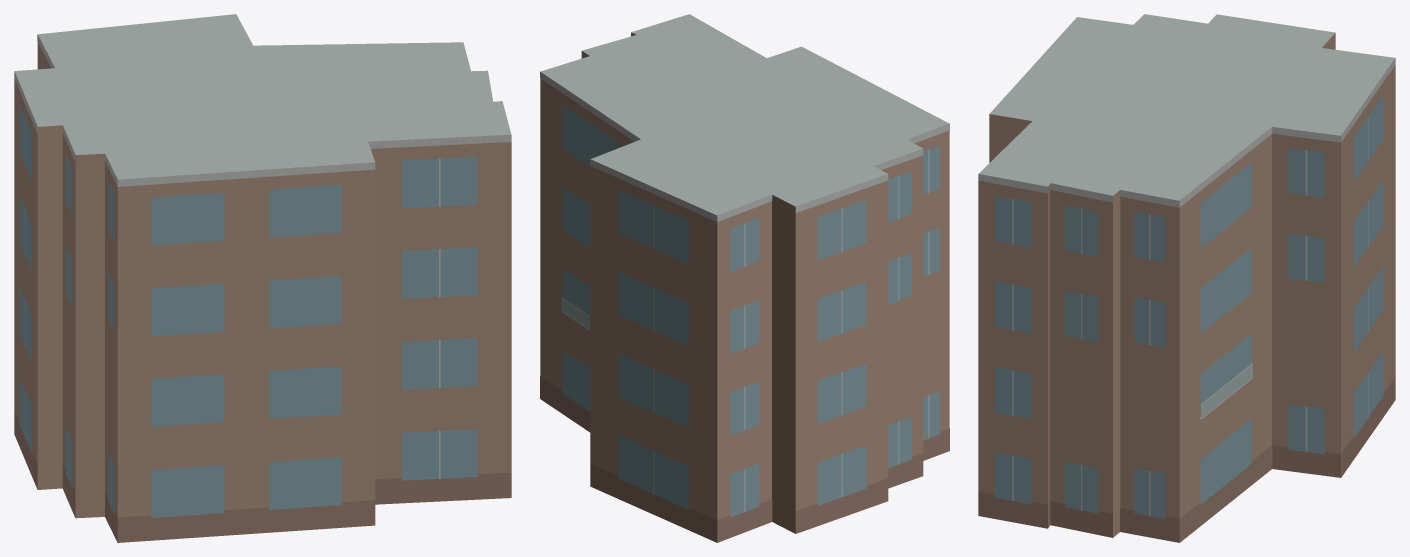
File: survey-upis-32949858.glb
The picture shows the model from 3 angles, left to right: view 1: azimuth 30°, elevation 25°; view 2: azimuth 150°, elevation 25°; view 3: azimuth 270°, elevation 25°; orthographic projection. The views are drawn at different scales.
Parts seen in each view (by area): view 1: survey-upis-32949858.tmp; view 2: survey-upis-32949858.tmp; view 3: survey-upis-32949858.tmp.
Part boxes in pixels (bbox=[...]): survey-upis-32949858.tmp: bbox=[14, 14, 511, 542]; survey-upis-32949858.tmp: bbox=[540, 14, 949, 542]; survey-upis-32949858.tmp: bbox=[978, 14, 1395, 542].
Bounding box in the file's own units: 14.3 × 12.2 × 13.49.
